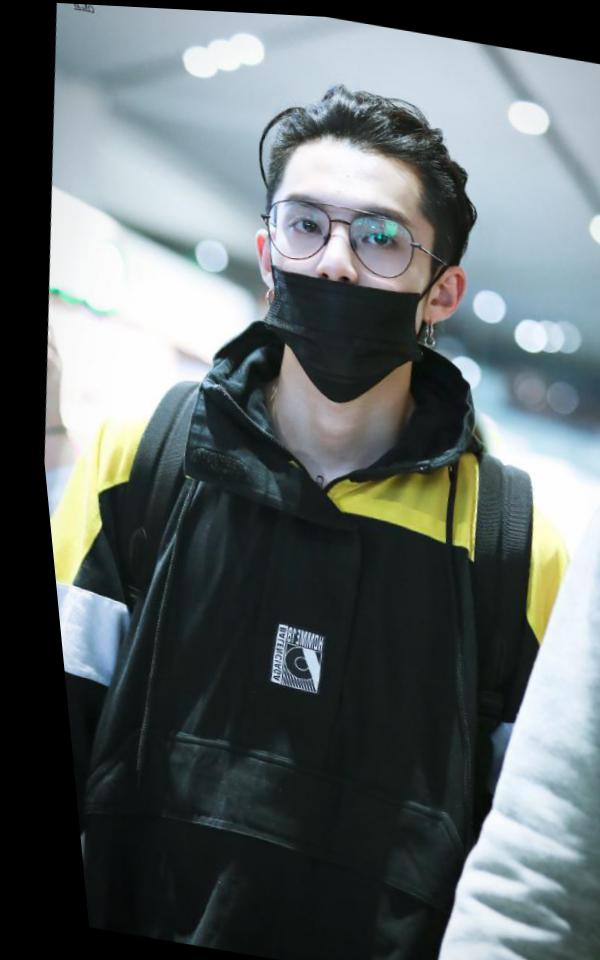WRONG: (246, 153, 447, 405)
